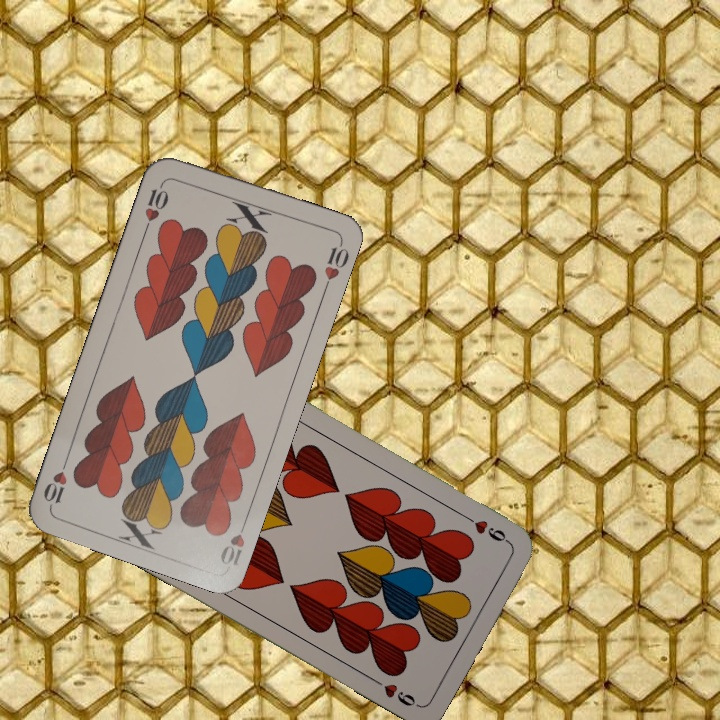H10: (216, 513, 251, 570), (140, 177, 172, 234)
H9: (459, 510, 513, 547)
